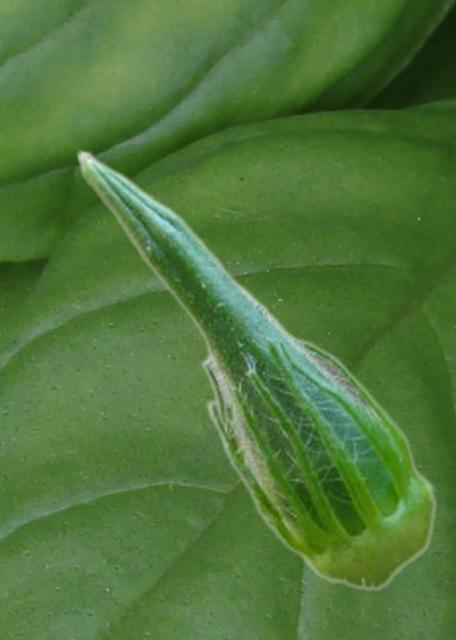okra: (75, 148, 437, 590)
